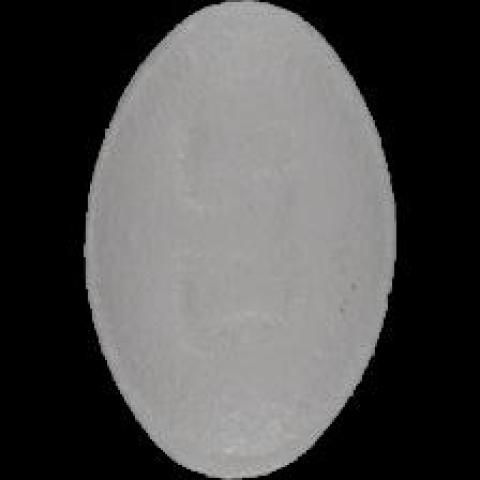Pill: (56, 0, 435, 480)
